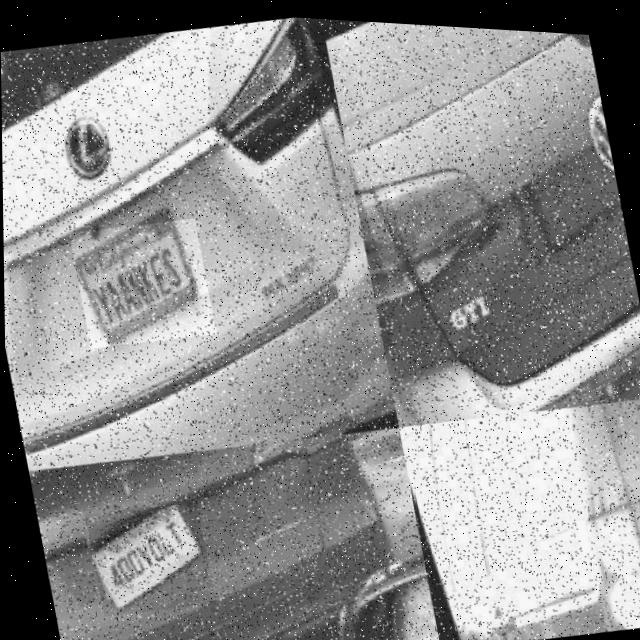LicensePlate: (68, 210, 215, 353), (91, 501, 206, 612)
